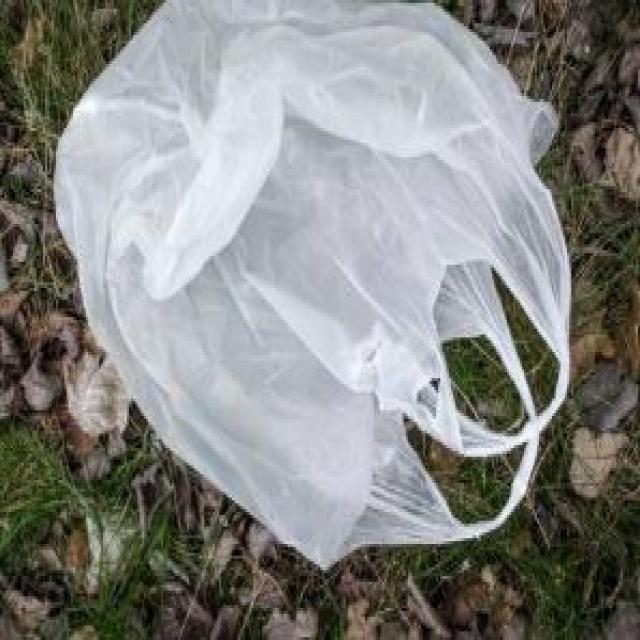general: (52, 0, 571, 570)
